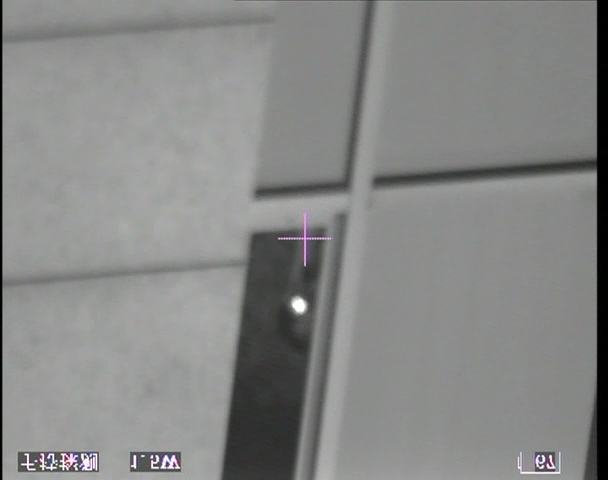my: (291, 296, 306, 314)
